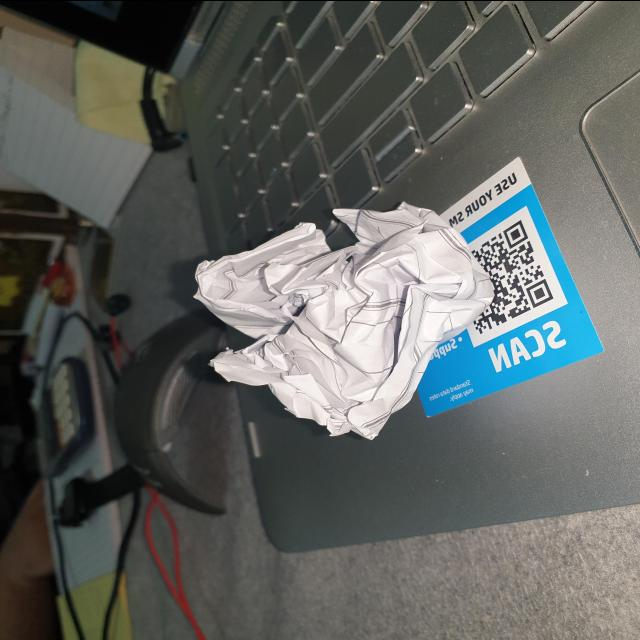kertas: (182, 193, 501, 457)
